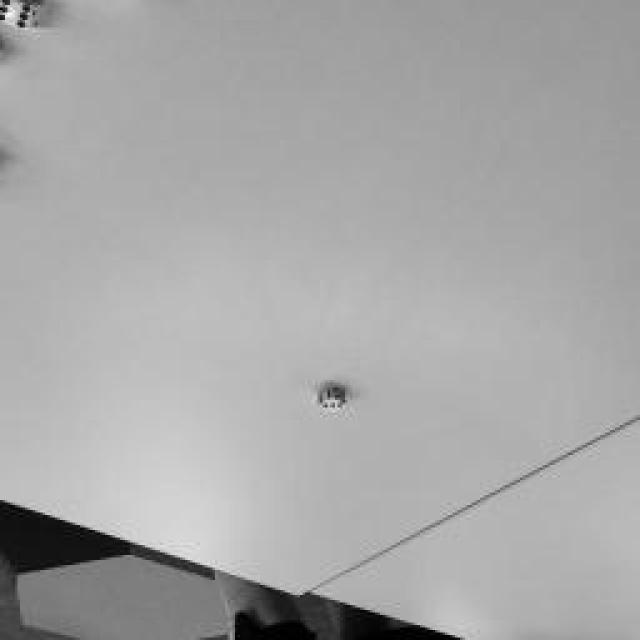dice_3: (319, 398, 346, 412)
dice_6: (0, 0, 32, 30)
